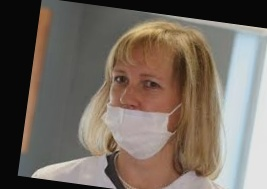mask_weared_incorrect: (107, 34, 187, 160)
